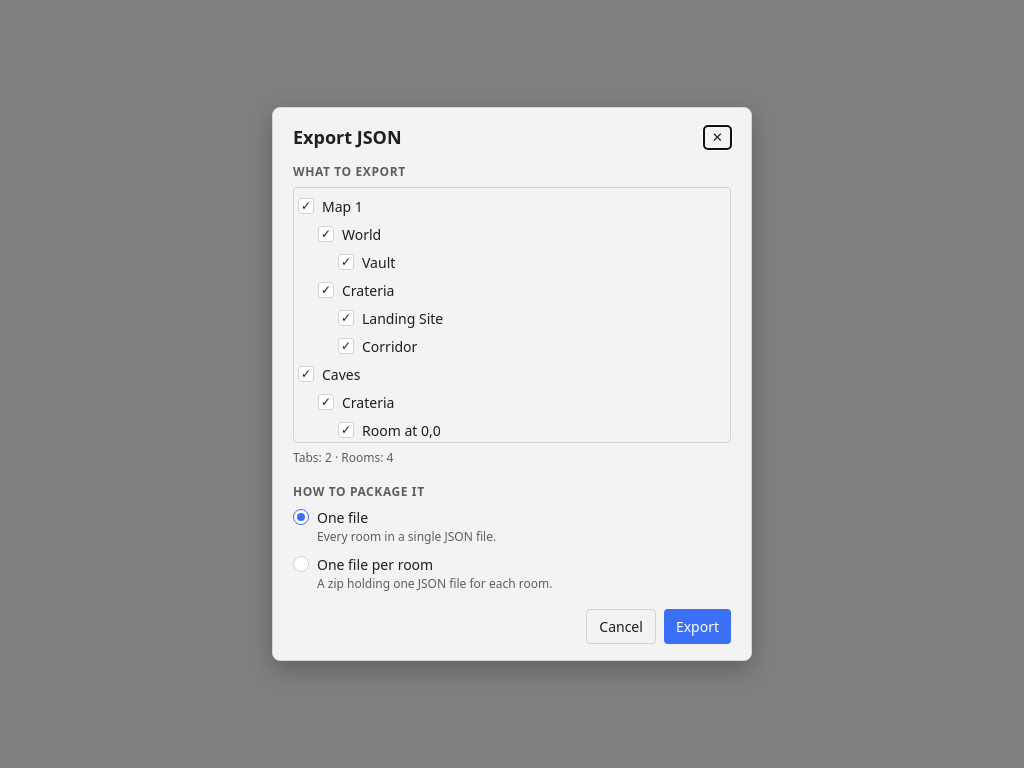
it: ticking › says so and disables the export when nothing is left
Click the checkbox labelled "✓" next to "Map 1". click: (306, 206)
box: left=298, top=198, right=314, bottom=214
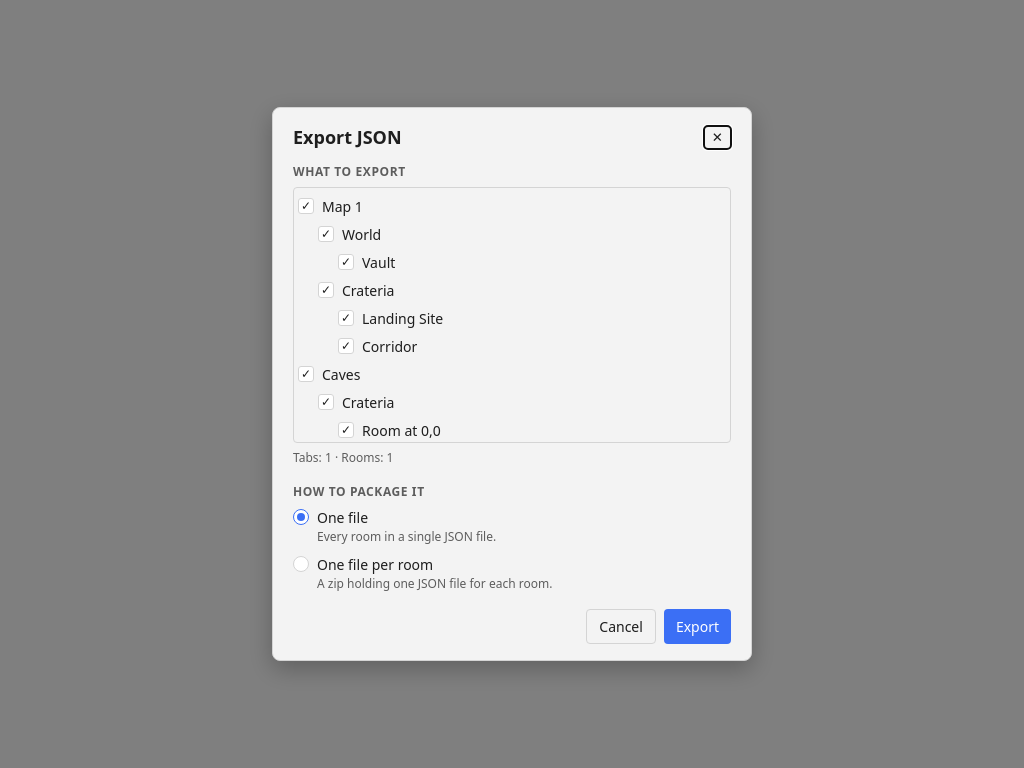
Click the checkbox labelled "✓" next to "Caves". click: (306, 374)
box: left=298, top=366, right=314, bottom=382
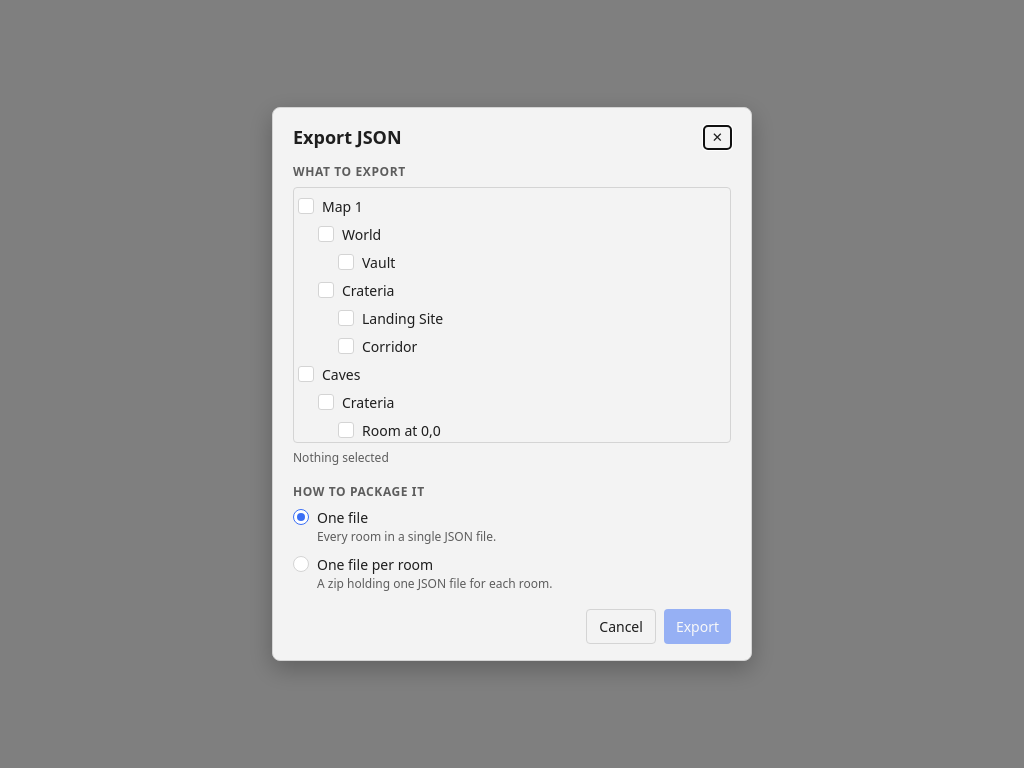
Check: the text "Nothing selected" is shown, box left=293, top=449, right=389, bottom=466
Check: the button "Export" is disabled, box left=664, top=609, right=731, bottom=644
